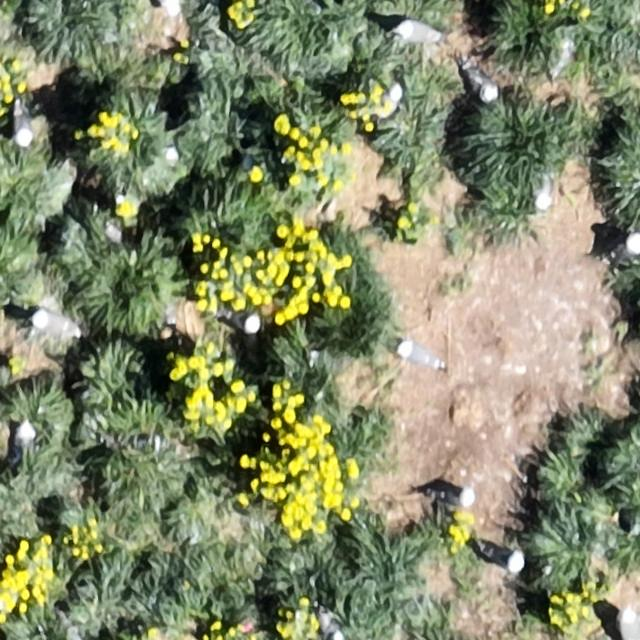umineko: (10, 420, 38, 470), (30, 311, 81, 336), (532, 171, 558, 215), (469, 68, 499, 104), (481, 545, 524, 570), (400, 343, 442, 366), (429, 488, 474, 508), (615, 602, 640, 638), (396, 22, 439, 42), (223, 310, 260, 332), (13, 106, 32, 147), (621, 228, 640, 265), (318, 611, 339, 637)
